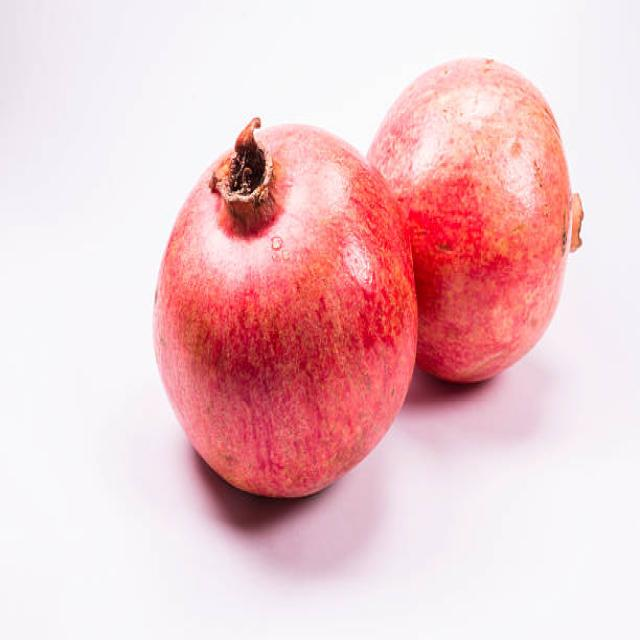Ripe: (150, 106, 419, 504), (375, 51, 588, 390)
